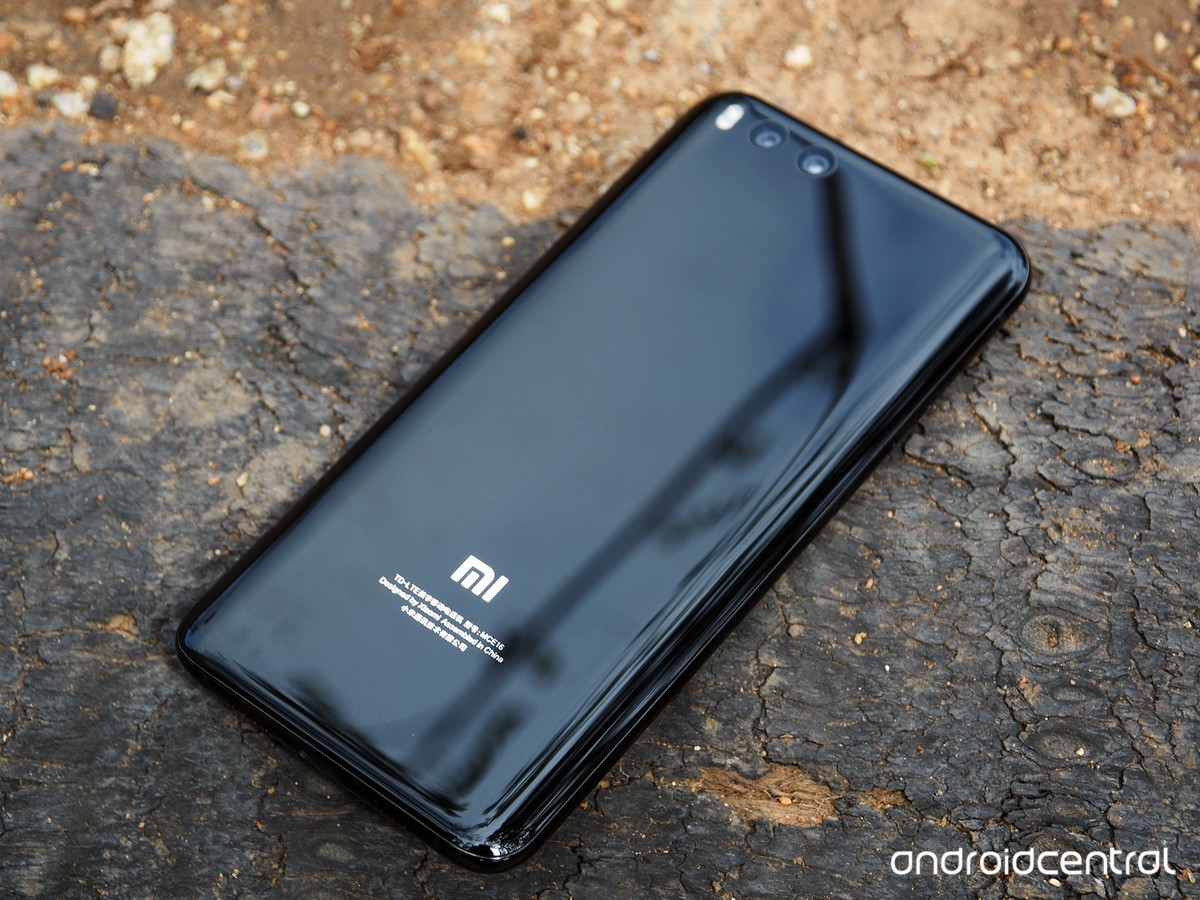smartphone: (173, 92, 1032, 872)
